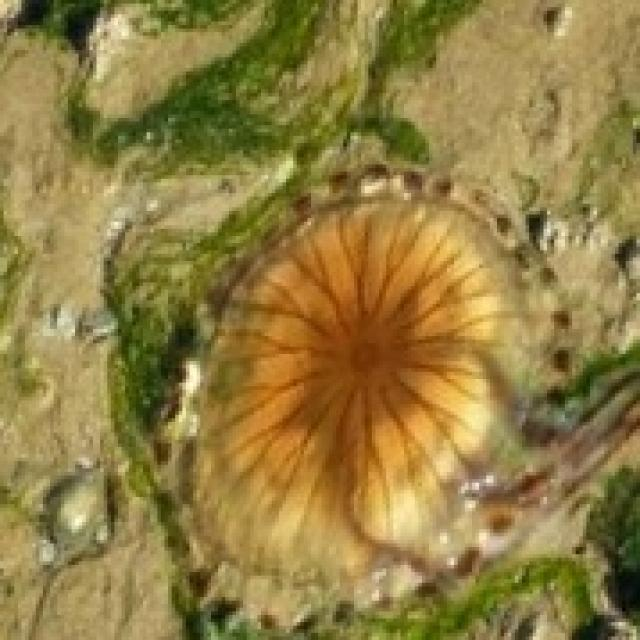Box-jellyfish: (166, 157, 566, 606)
